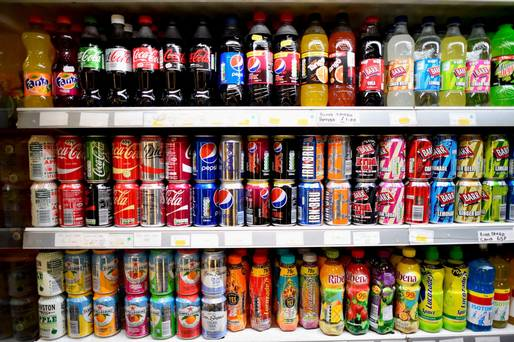fanta: (23, 15, 51, 107)
